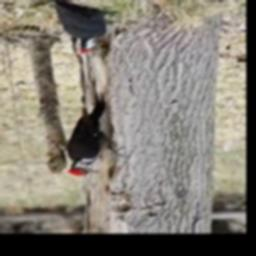Woodpecker: (66, 91, 128, 176), (55, 0, 123, 54)
